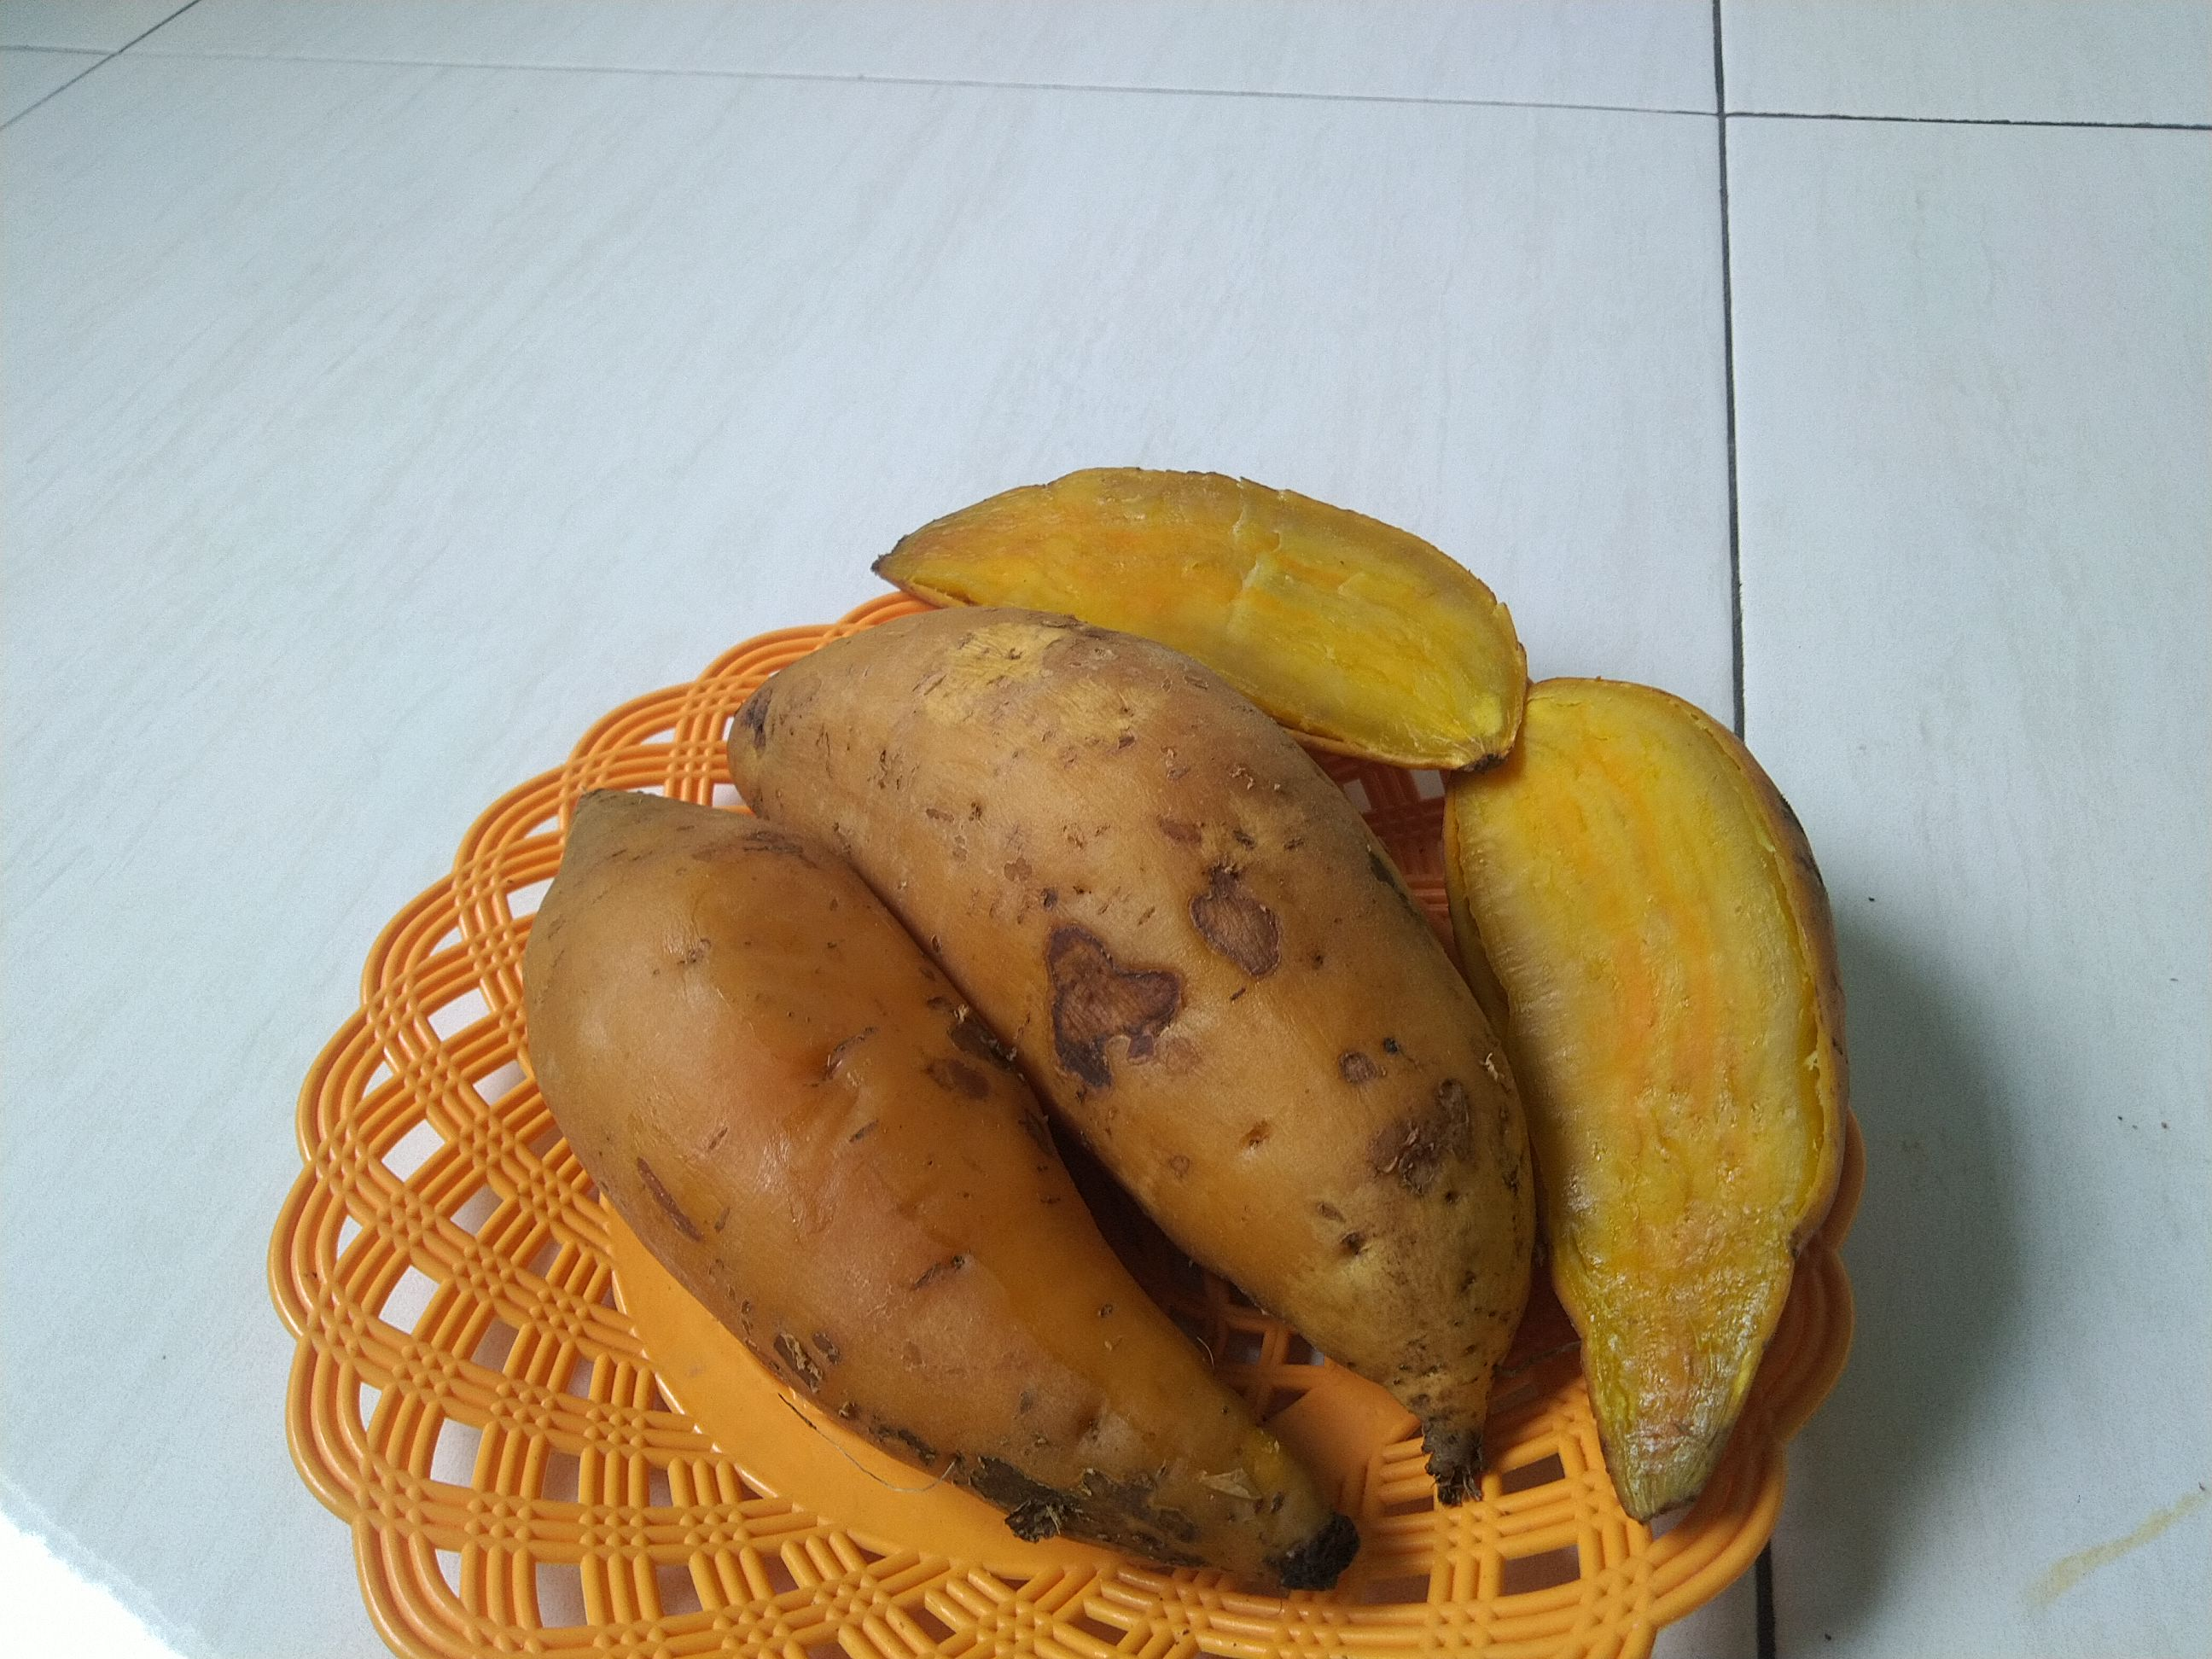ubi cilembu: (529, 605, 1531, 1579), (709, 603, 1534, 1509), (540, 782, 1359, 1598), (1442, 666, 1857, 1530), (864, 458, 1531, 767)
